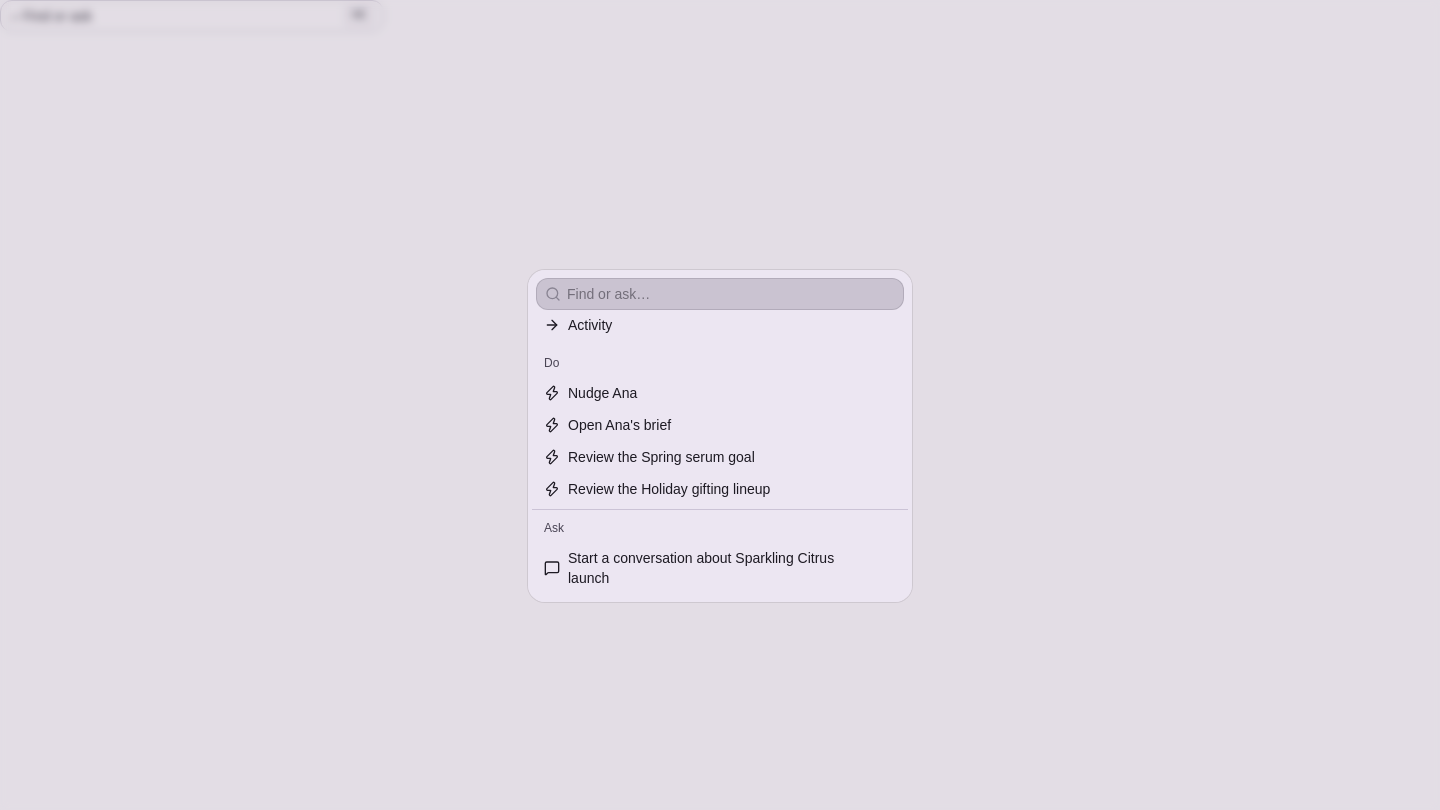
Test: a new conversation starts with an empty draft
(page scrolled)
Step 1. Click the option "Start a conversation about Sparkling Citrus launch" → [689, 568], box x1=544 y1=550 x2=834 y2=586
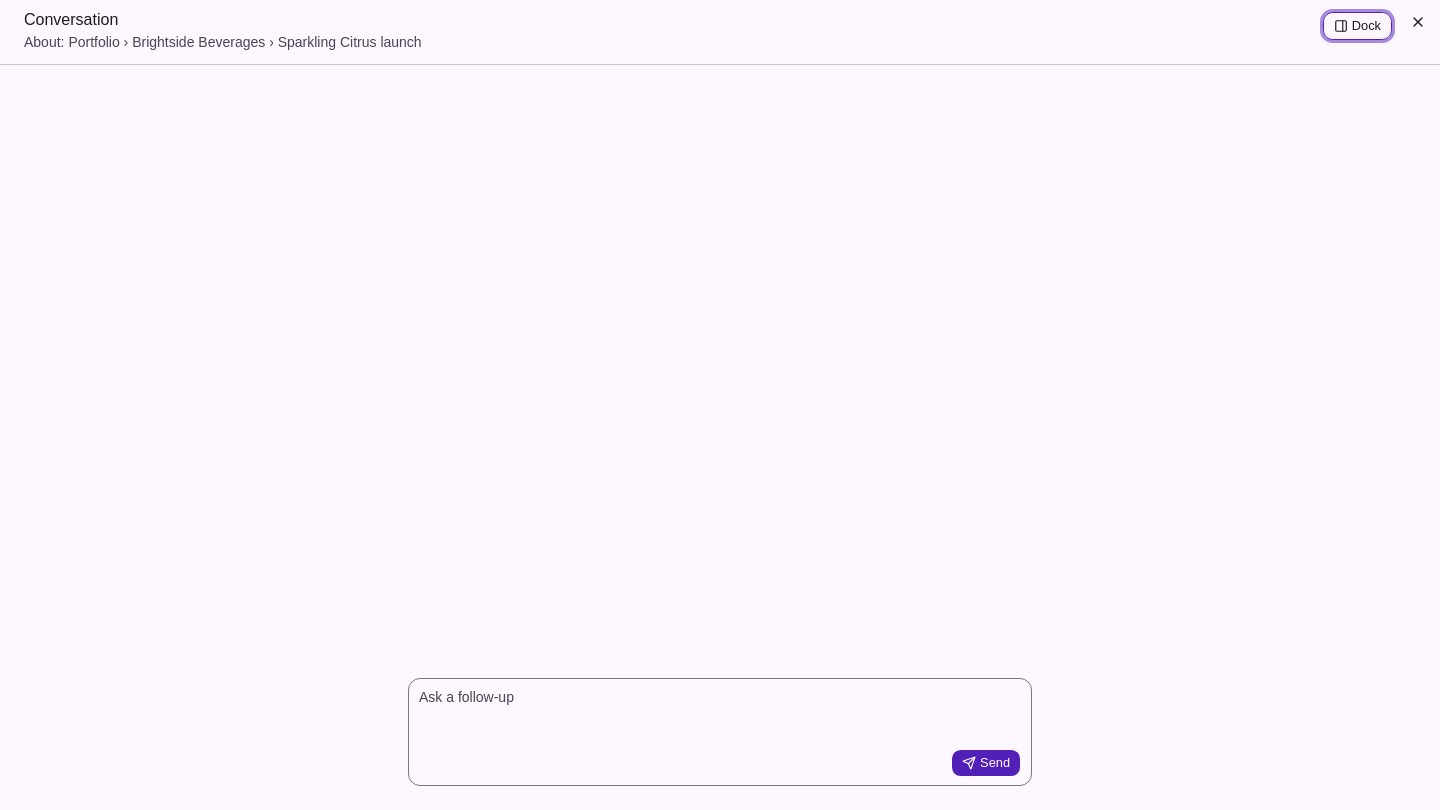
Step 2. Type "half-typed" into the text box named "Message" → [720, 711], box x1=409 y1=679 x2=1031 y2=743
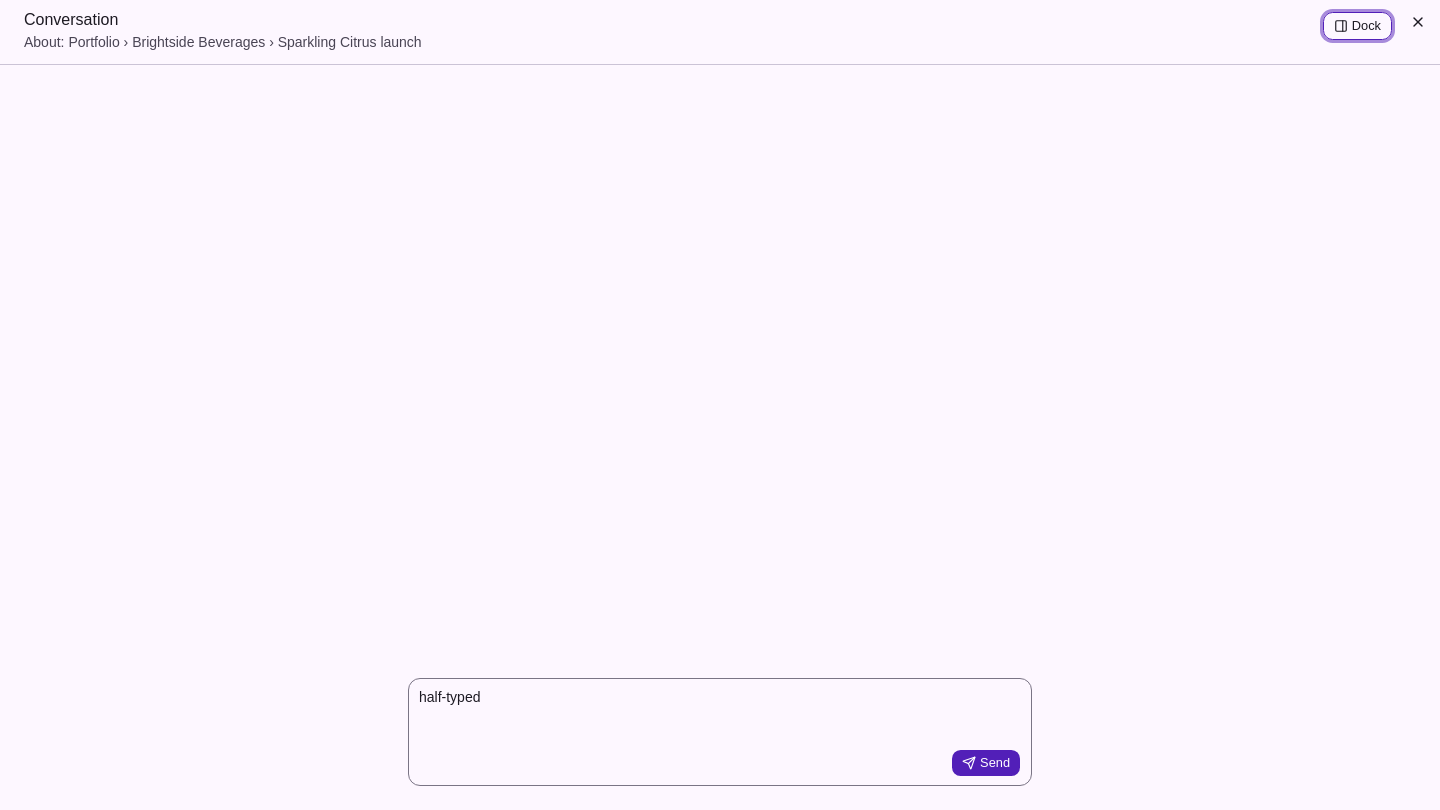
Step 3. Press Escape in the dialog "Conversation"
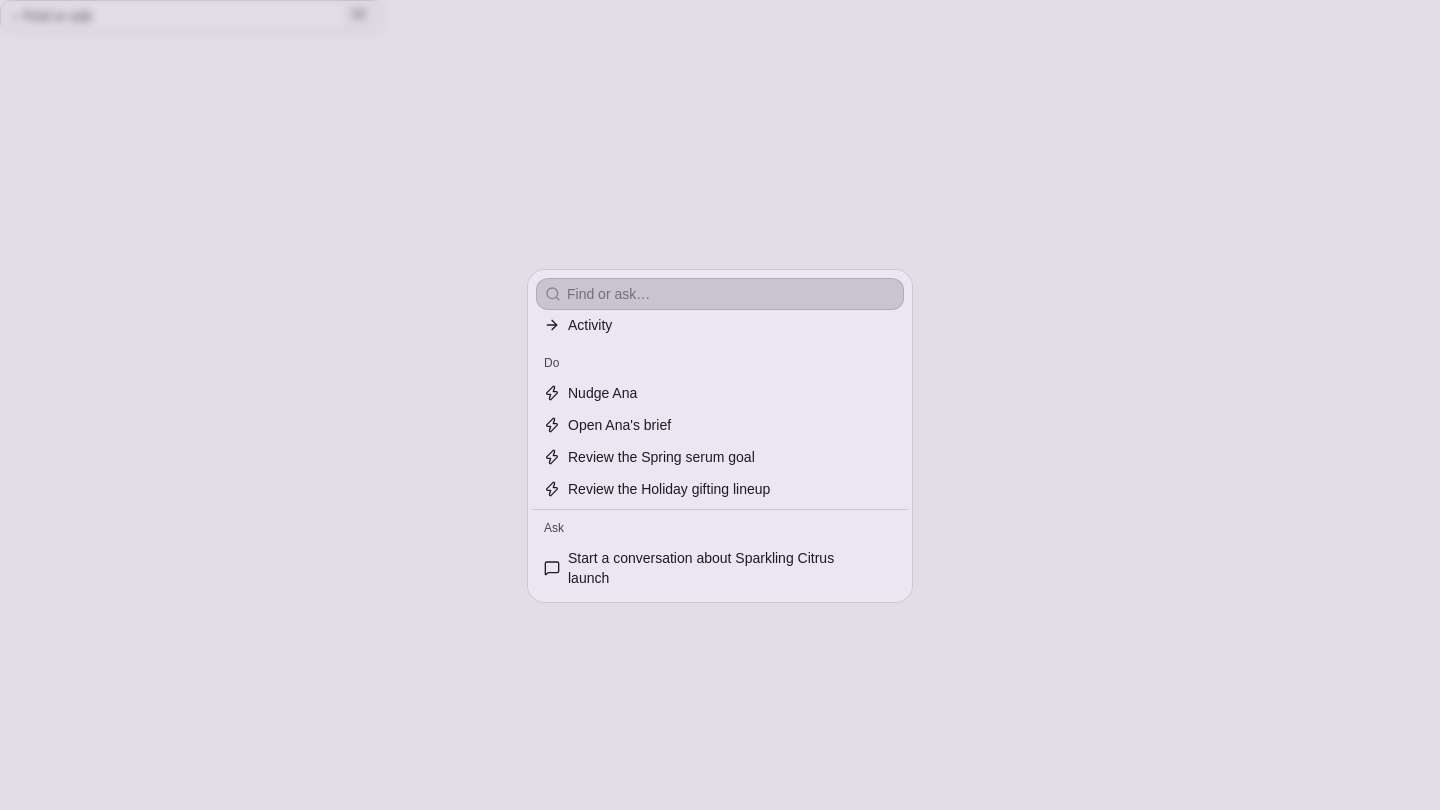
Step 4. Click the option "Start a conversation about Sparkling Citrus launch" → [720, 568], box x1=536 y1=542 x2=904 y2=594
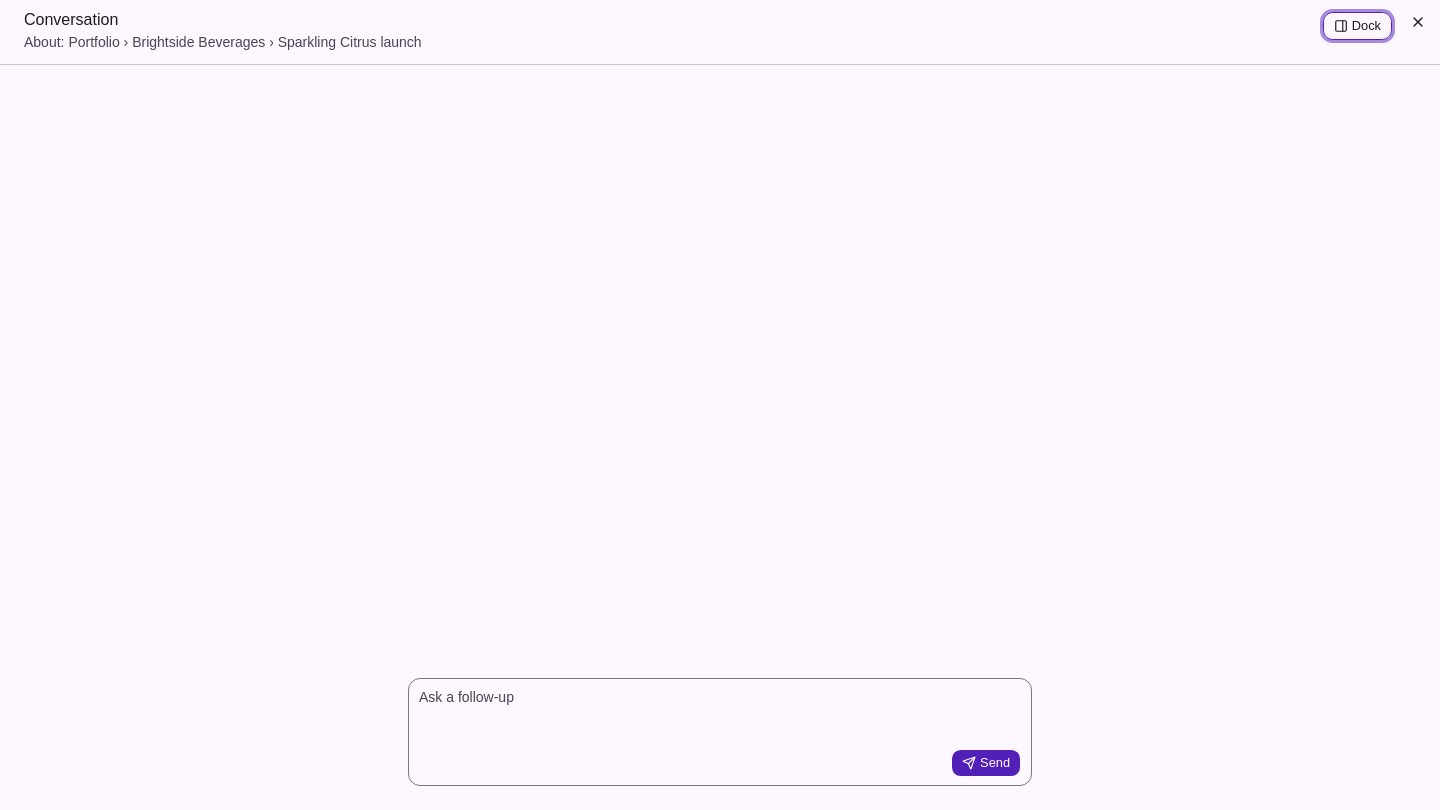
Now the text box named "Message" is empty, box x1=409 y1=679 x2=1031 y2=743
